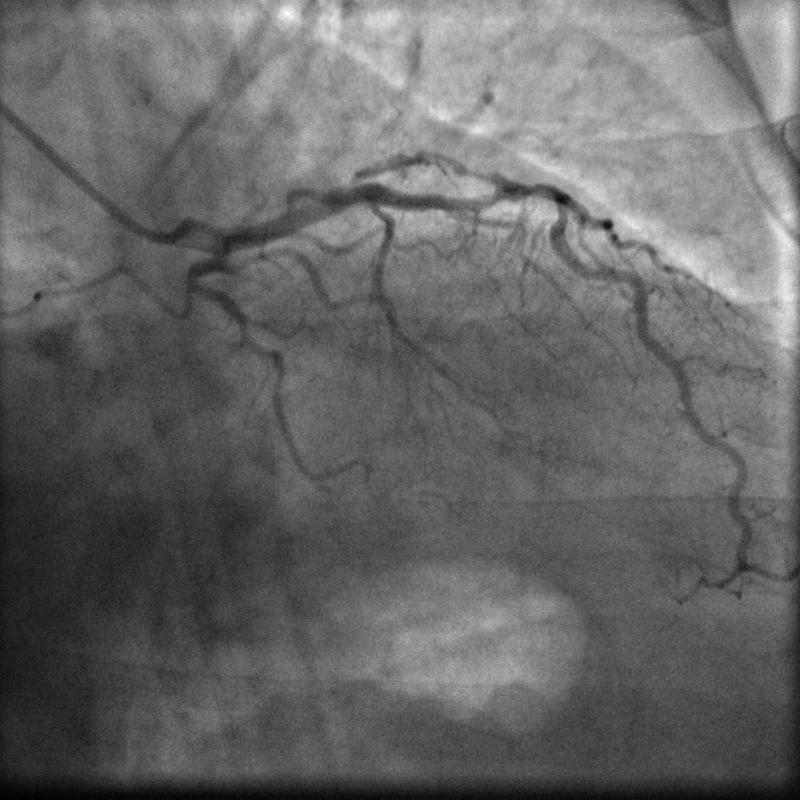Stenosis: (484, 182, 567, 227)
